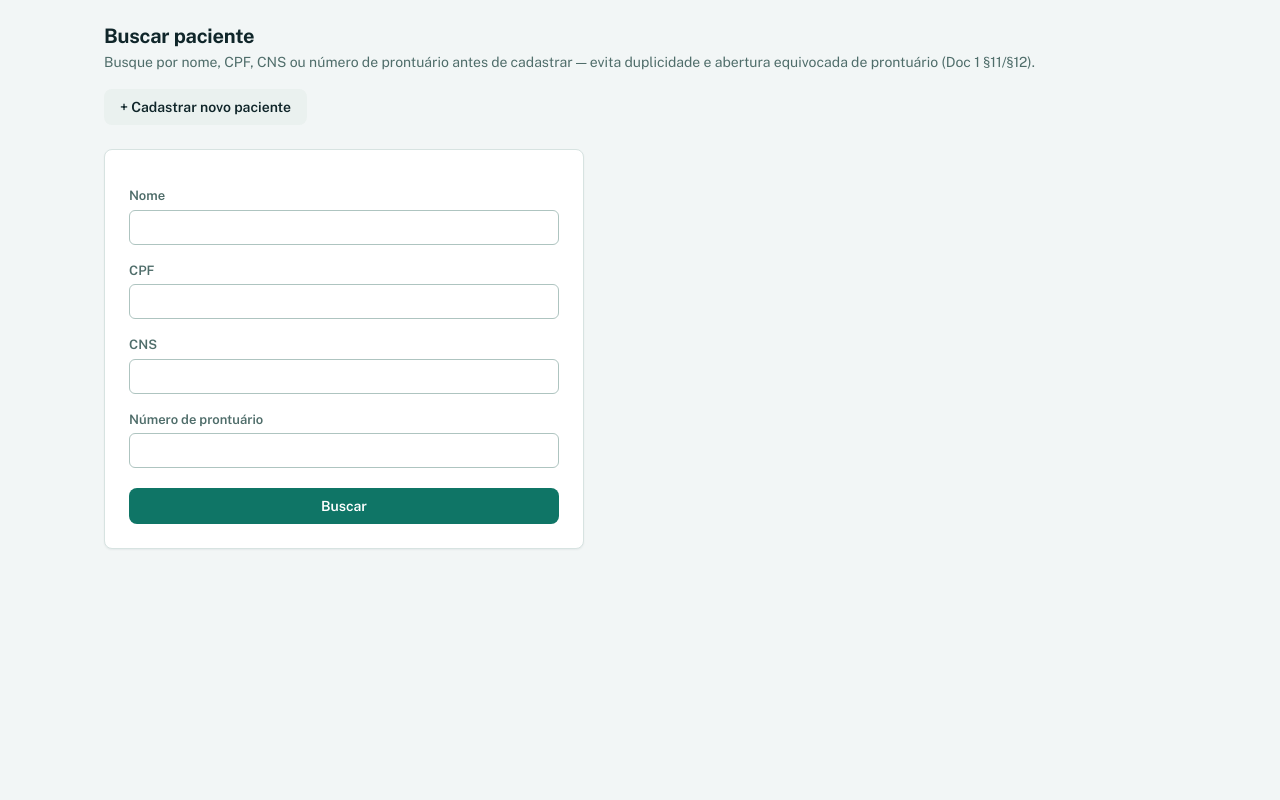
Test: PatientSearchPage › 13. busca por CPF retorna resultados
Step 1. Type "11144477735" into the field labelled "CPF" → (344, 302), box left=129, top=284, right=559, bottom=319
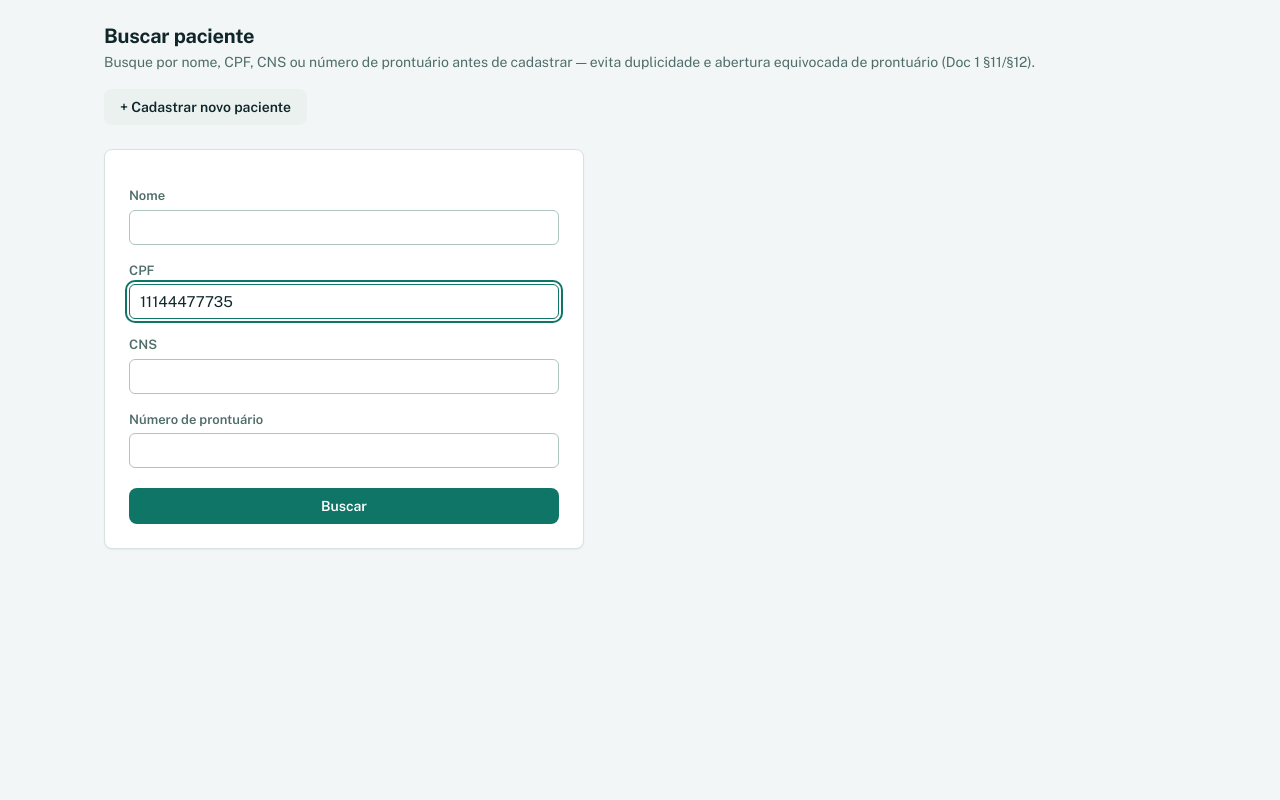
Step 2. Click the button "Buscar" → (344, 506), box left=129, top=488, right=559, bottom=524
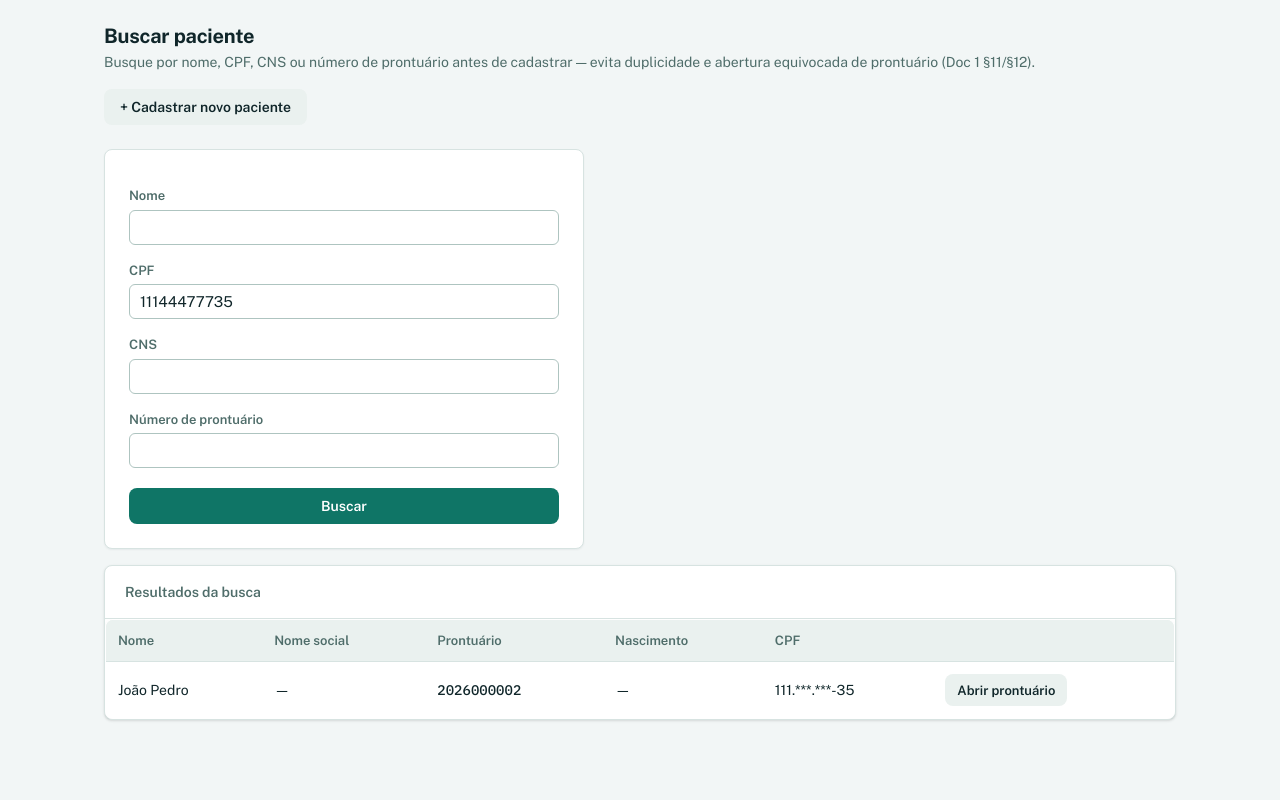
Expected: the text "João Pedro" is shown, left=106, top=662, right=262, bottom=719
